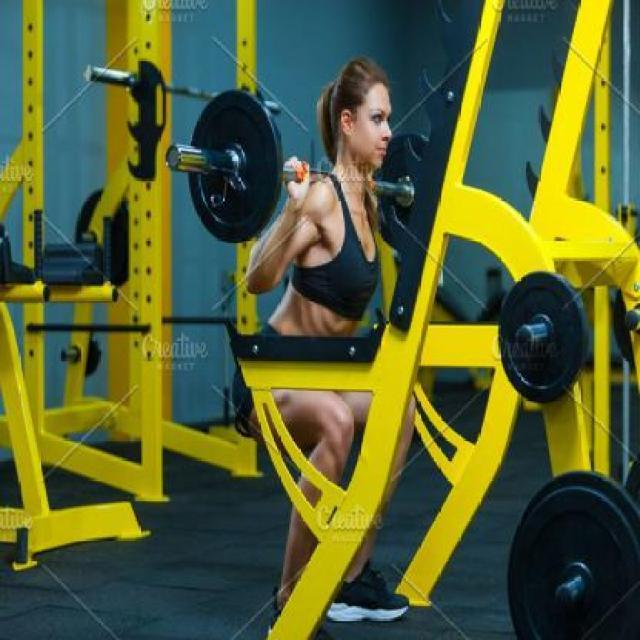barbell: (167, 85, 289, 251)
